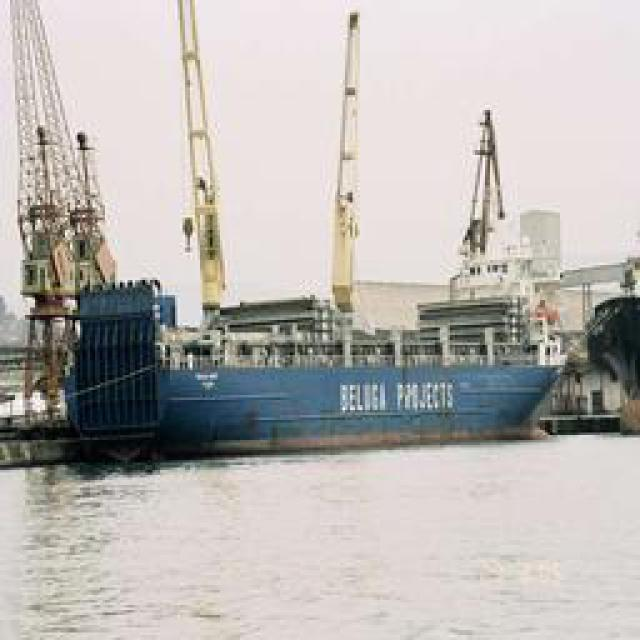Ship: (58, 270, 577, 475)
